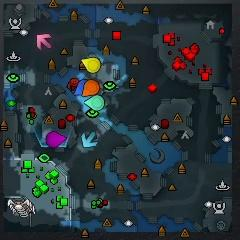p1: (74, 79, 89, 96)
p2: (84, 95, 106, 112)
p3: (45, 132, 66, 147)
p4: (81, 57, 101, 73)
p5: (82, 79, 99, 96)
x1: (36, 33, 52, 50)
x3: (81, 132, 97, 147)
